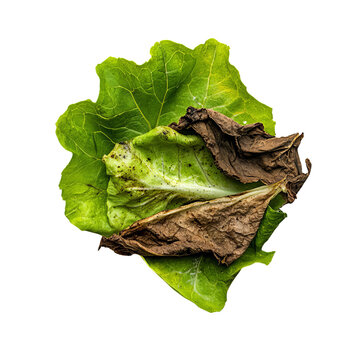lettuce rotten: (23, 40, 318, 305)
